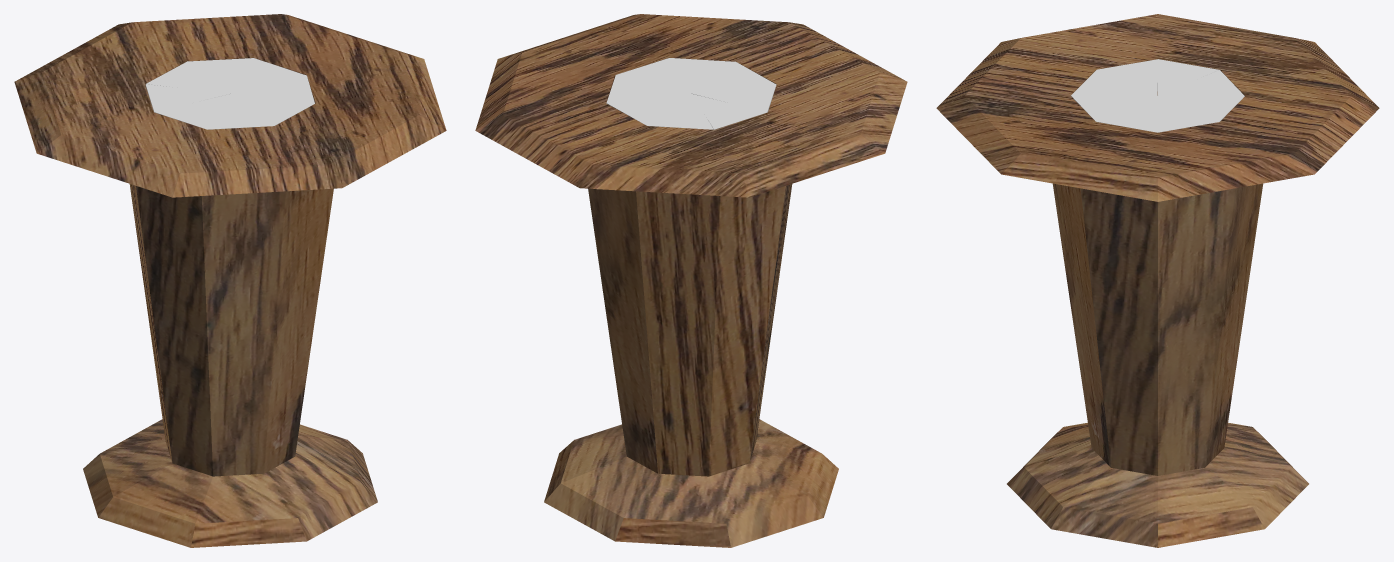
Rendered from final_init_4.fbx.
3 views of the same model, side by side, from view 1: azimuth 30°, elevation 25°; view 2: azimuth 150°, elevation 25°; view 3: azimuth 270°, elevation 25° (orthographic).
Visible parts, largest first — view 1: Cylinder, Cylinder.009, Cylinder.001, Cylinder.005, Cylinder.004, Cylinder.003, Cylinder.008, Cylinder.006, Cylinder.007; view 2: Cylinder, Cylinder.001, Cylinder.006, Cylinder.007, Cylinder.009, Cylinder.003, Cylinder.008, Cylinder.005, Cylinder.004; view 3: Cylinder, Cylinder.007, Cylinder.005, Cylinder.006, Cylinder.004, Cylinder.001, Cylinder.008, Cylinder.009, Cylinder.003.
Part boxes in pixels (left/top/right/bottom): Cylinder: left=14, top=14, right=446, bottom=547; Cylinder.009: left=145, top=84, right=230, bottom=112; Cylinder.001: left=154, top=94, right=230, bottom=129; Cylinder.005: left=231, top=75, right=314, bottom=103; Cylinder.004: left=231, top=93, right=314, bottom=125; Cylinder.003: left=207, top=94, right=273, bottom=129; Cylinder.008: left=146, top=62, right=229, bottom=93; Cylinder.006: left=230, top=58, right=305, bottom=93; Cylinder.007: left=187, top=58, right=253, bottom=93; Cylinder: left=475, top=14, right=907, bottom=547; Cylinder.001: left=692, top=84, right=776, bottom=112; Cylinder.006: left=606, top=75, right=690, bottom=103; Cylinder.007: left=607, top=94, right=691, bottom=125; Cylinder.009: left=692, top=94, right=767, bottom=129; Cylinder.003: left=691, top=62, right=775, bottom=93; Cylinder.008: left=647, top=94, right=713, bottom=129; Cylinder.005: left=615, top=58, right=690, bottom=93; Cylinder.004: left=669, top=58, right=735, bottom=93; Cylinder: left=936, top=14, right=1379, bottom=547; Cylinder.007: left=1159, top=95, right=1244, bottom=121; Cylinder.005: left=1096, top=96, right=1158, bottom=132; Cylinder.006: left=1157, top=96, right=1218, bottom=132; Cylinder.004: left=1071, top=95, right=1157, bottom=121; Cylinder.001: left=1097, top=59, right=1158, bottom=95; Cylinder.008: left=1158, top=70, right=1244, bottom=95; Cylinder.009: left=1158, top=59, right=1218, bottom=95; Cylinder.003: left=1071, top=70, right=1156, bottom=95.
Size of the model in its own units: 331 by 319 by 331.
Materials: 3 (1 with a texture image).
